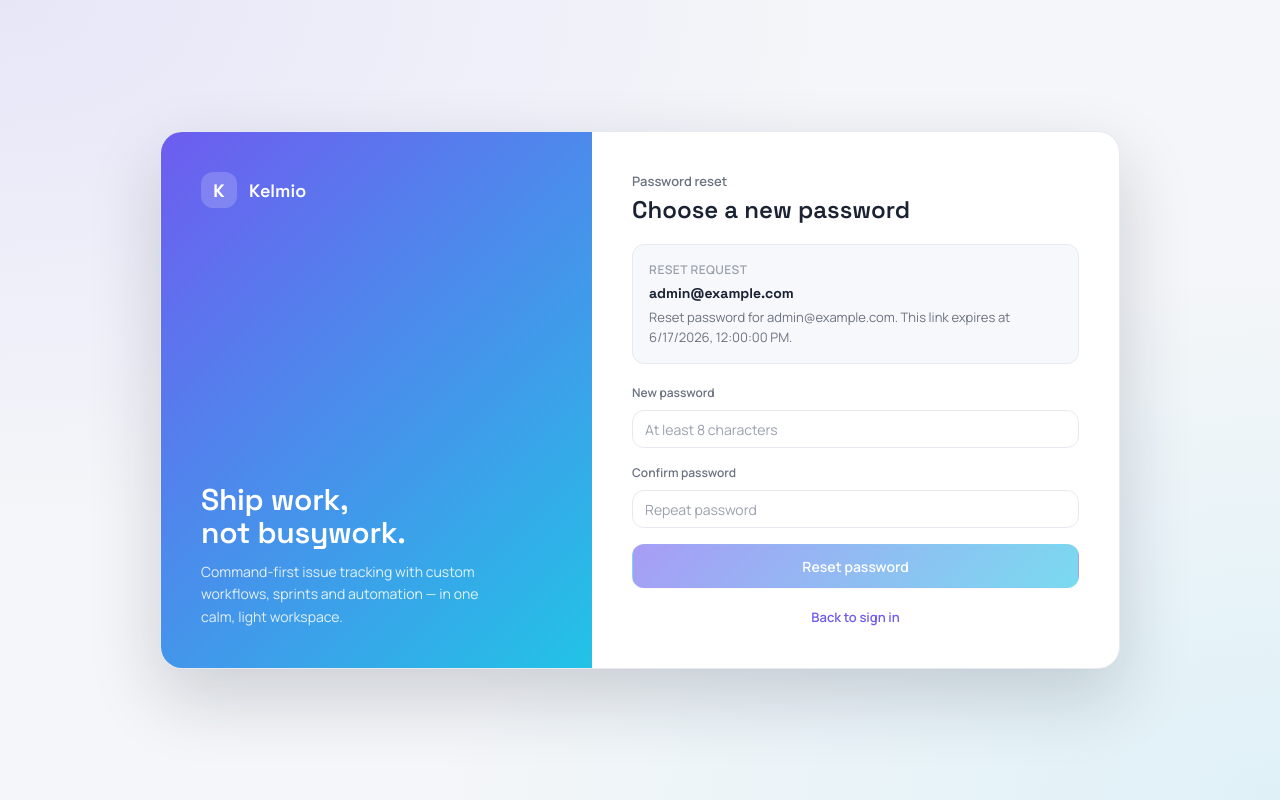
Test: reset password screen keeps entered values after completion failure
Check: the text "admin@example.com" is shown, box top-left (649, 284), bottom-right (794, 302)
Type "new-password" into the password field labelled "New password" at [856, 429], box top-left (632, 410), bottom-right (1079, 448)
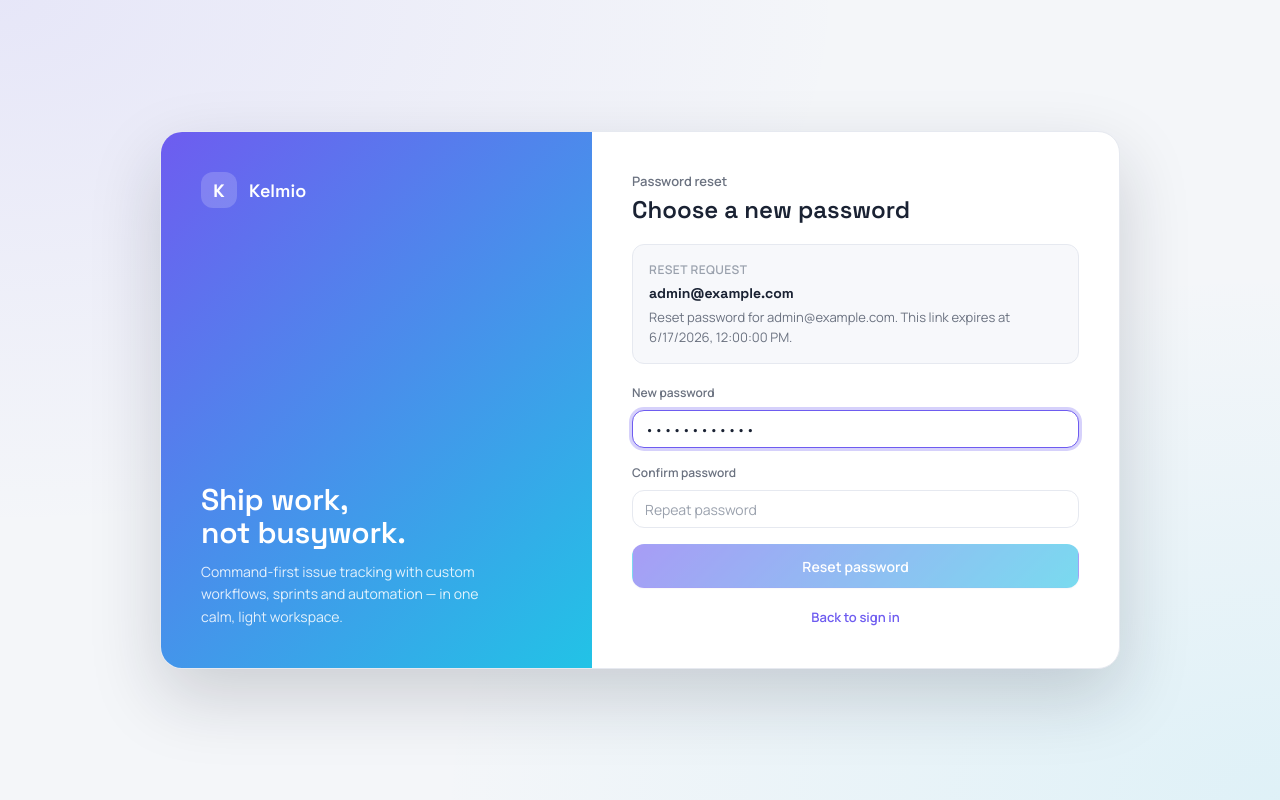
Type "new-password" into the password field labelled "Confirm password" at [856, 509], box top-left (632, 490), bottom-right (1079, 528)
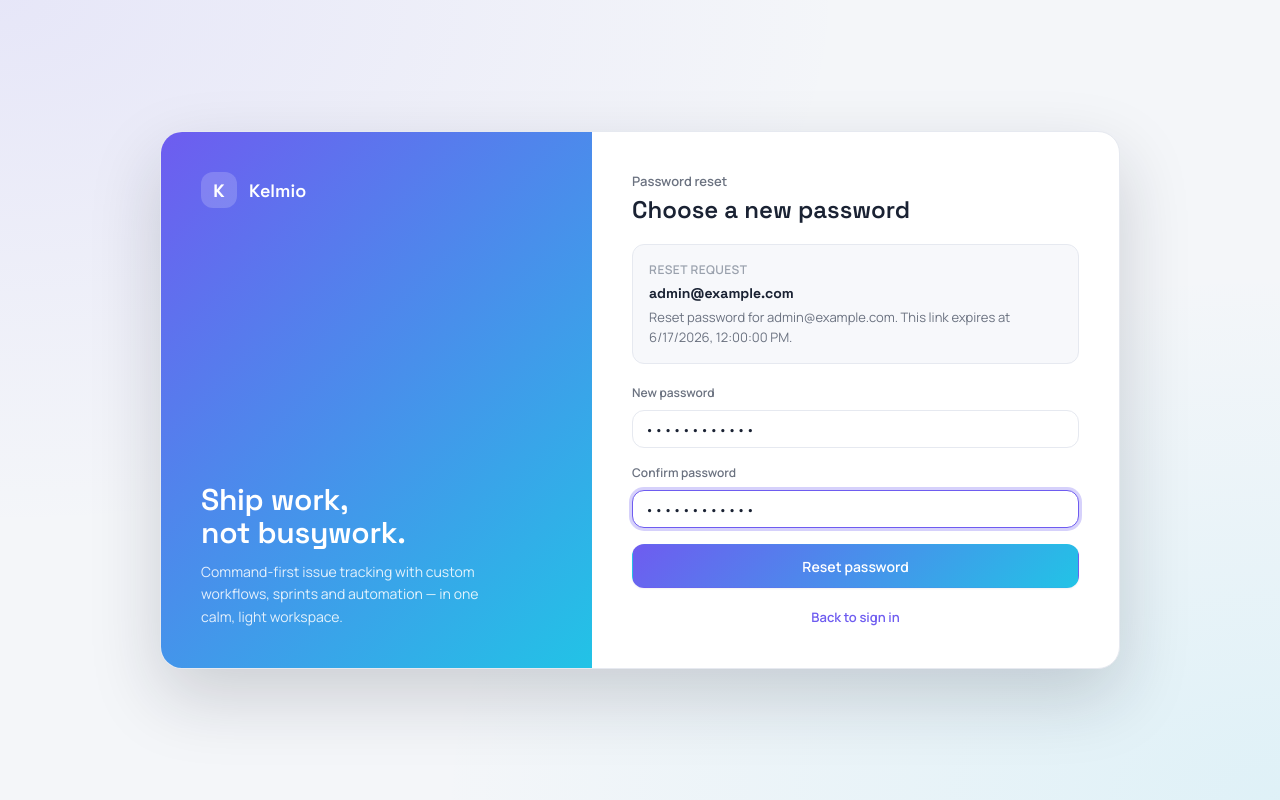
Click the button "Reset password" at [856, 566], box top-left (632, 544), bottom-right (1079, 588)
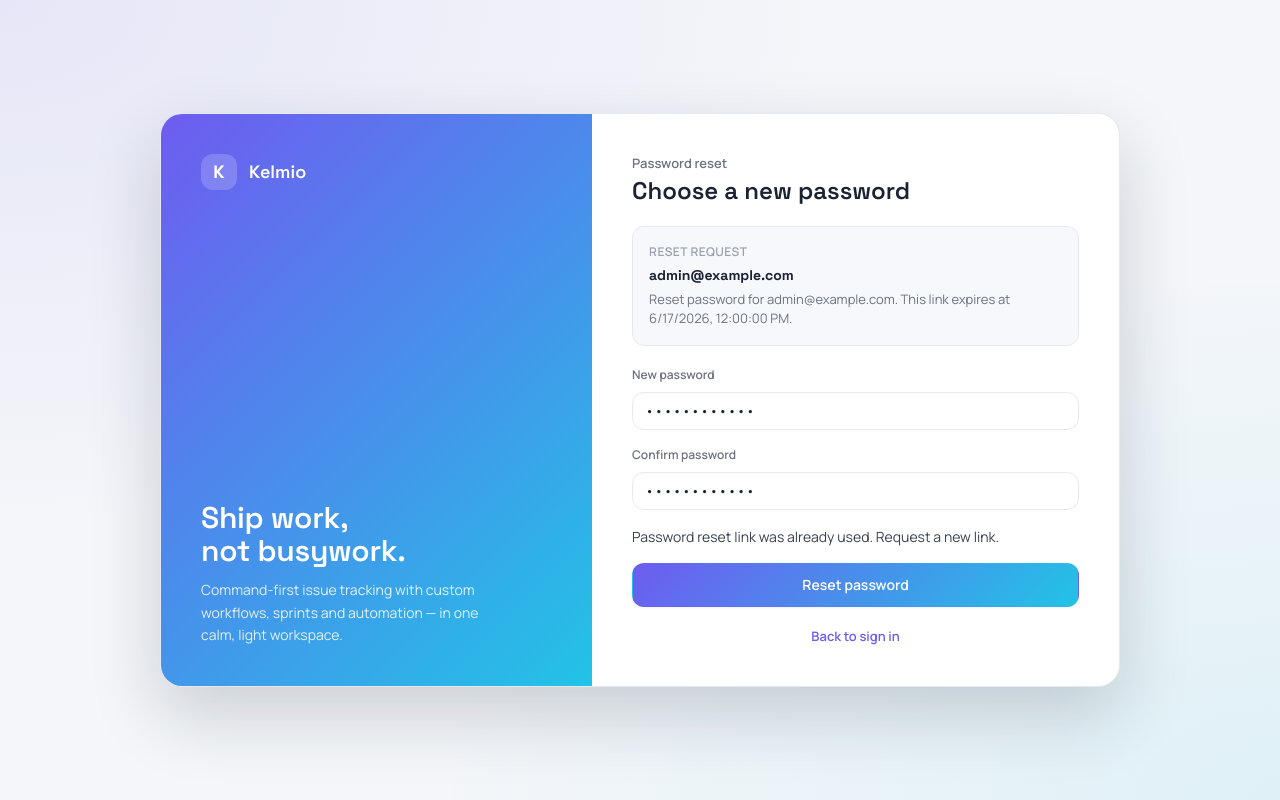
Check: the text "Password reset link was already used. Request a new link." is shown, box top-left (632, 527), bottom-right (999, 546)
